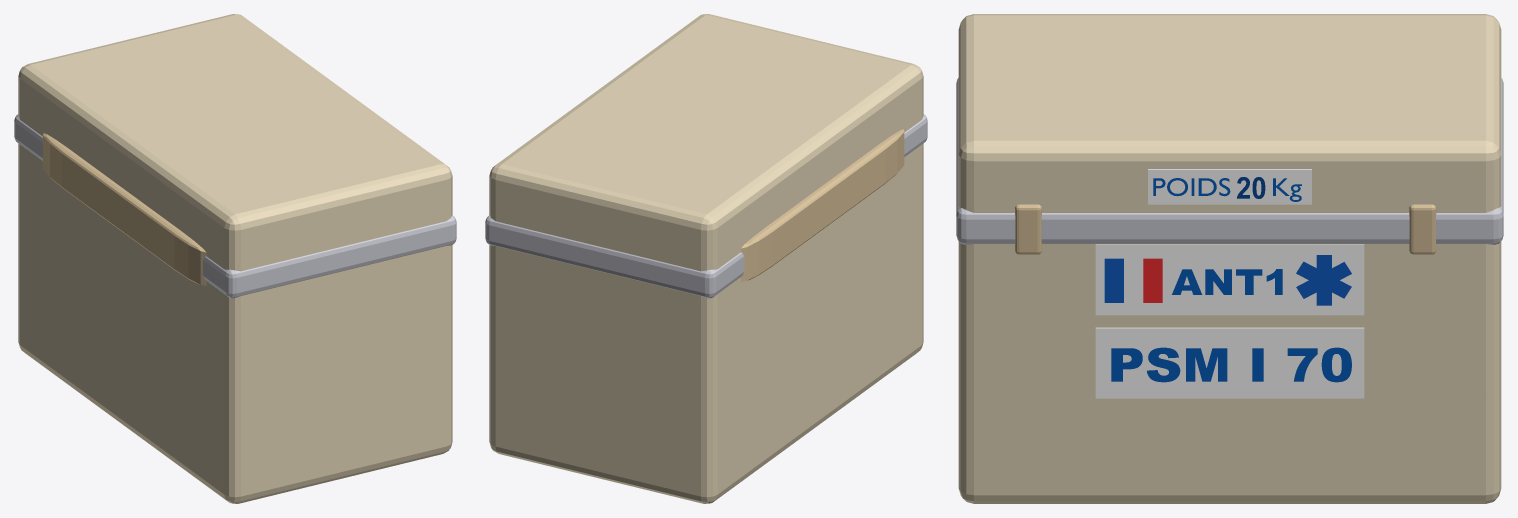
The model's file is MalleANT1.fbx.
The picture shows the model from 3 angles, left to right: view 1: azimuth 30°, elevation 25°; view 2: azimuth 150°, elevation 25°; view 3: azimuth 270°, elevation 25°; orthographic projection. The views are drawn at different scales.
Parts seen in each view (by area): view 1: Malle_PSM, Anneau, Loquet.002; view 2: Malle_PSM, Anneau, Loquet.002; view 3: Malle_PSM, Anneau, Etiquette_PSM, Etiquette_A3.001, Etiquette_A3, Texte_PSM, Drabeau Blanc, Samu, Texte_A3, Loquet, Loquet.001, Texte_Poids.
Boxes of the visible parts, bbox=[...] form: Malle_PSM: bbox=[18, 14, 452, 503]; Anneau: bbox=[14, 114, 456, 298]; Loquet.002: bbox=[43, 133, 206, 285]; Malle_PSM: bbox=[489, 14, 923, 503]; Anneau: bbox=[485, 114, 927, 298]; Loquet.002: bbox=[741, 129, 904, 281]; Malle_PSM: bbox=[958, 14, 1501, 503]; Anneau: bbox=[956, 78, 1503, 244]; Etiquette_PSM: bbox=[1095, 327, 1364, 398]; Etiquette_A3.001: bbox=[1095, 244, 1364, 315]; Etiquette_A3: bbox=[1148, 169, 1311, 204]; Texte_PSM: bbox=[1111, 347, 1351, 382]; Drabeau Blanc: bbox=[1104, 258, 1162, 302]; Samu: bbox=[1296, 255, 1351, 305]; Texte_A3: bbox=[1172, 269, 1282, 294]; Loquet: bbox=[1409, 204, 1436, 254]; Loquet.001: bbox=[1015, 204, 1041, 254]; Texte_Poids: bbox=[1153, 178, 1301, 201].
Bounding box in the file's own units: 33.45 × 39 × 53.5.
